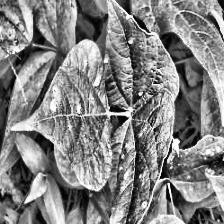Bean Rust: (22, 53, 112, 180), (98, 86, 176, 224), (99, 0, 178, 115), (164, 130, 224, 202)
